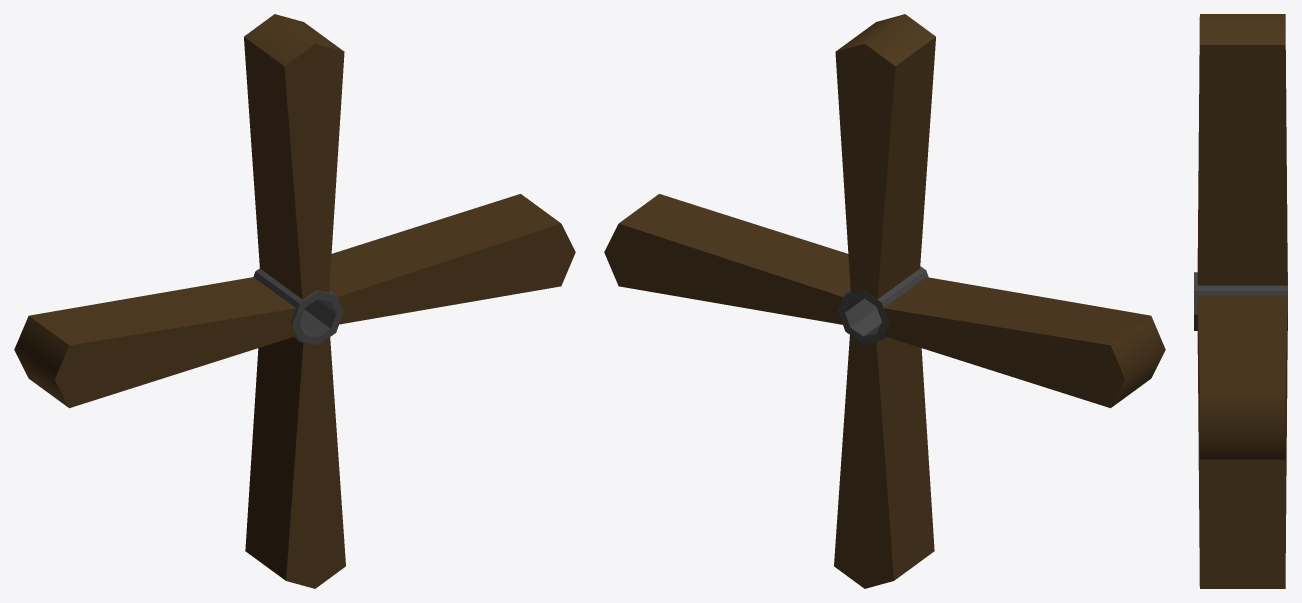
The model's file is pale nuove.fbx.
3 renders of one model, left to right at view 1: azimuth 30°, elevation 25°; view 2: azimuth 150°, elevation 25°; view 3: azimuth 270°, elevation 25°, orthographic. The views are drawn at different scales.
Parts seen in each view (by area): view 1: pCube5; view 2: pCube5; view 3: pCube5.
Boxes of the visible parts, box(x1,y1,x2,y2) form: pCube5: box(14, 14, 575, 588); pCube5: box(604, 14, 1165, 588); pCube5: box(1194, 14, 1287, 588).
Size of the model in its own units: 21.73 by 21.73 by 3.21.
